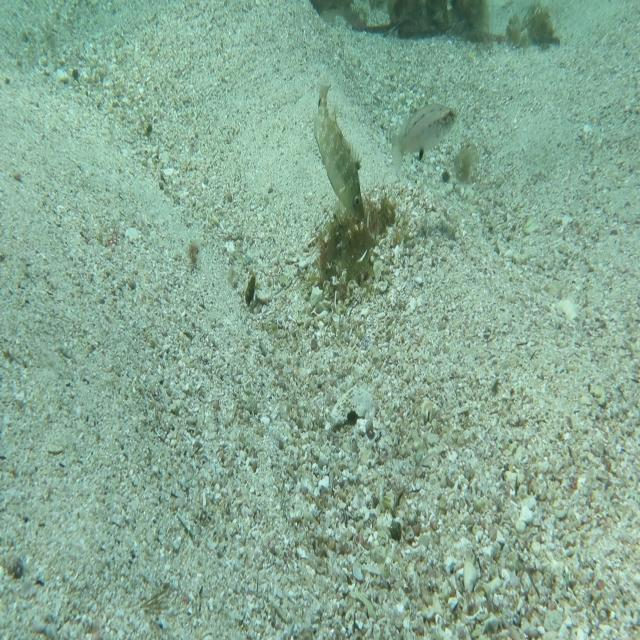INSF: (310, 80, 367, 223)
core_nest: (339, 196, 388, 241)
female: (384, 96, 463, 172)
nest: (304, 190, 397, 312)
